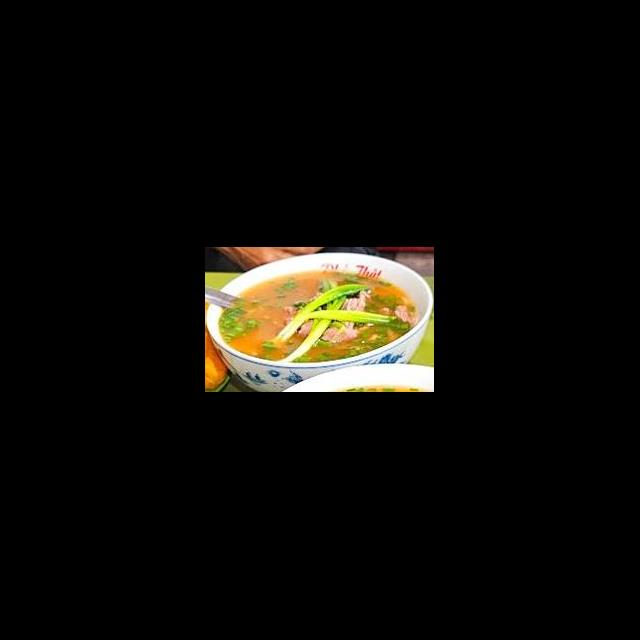thit bo: (280, 288, 374, 346)
